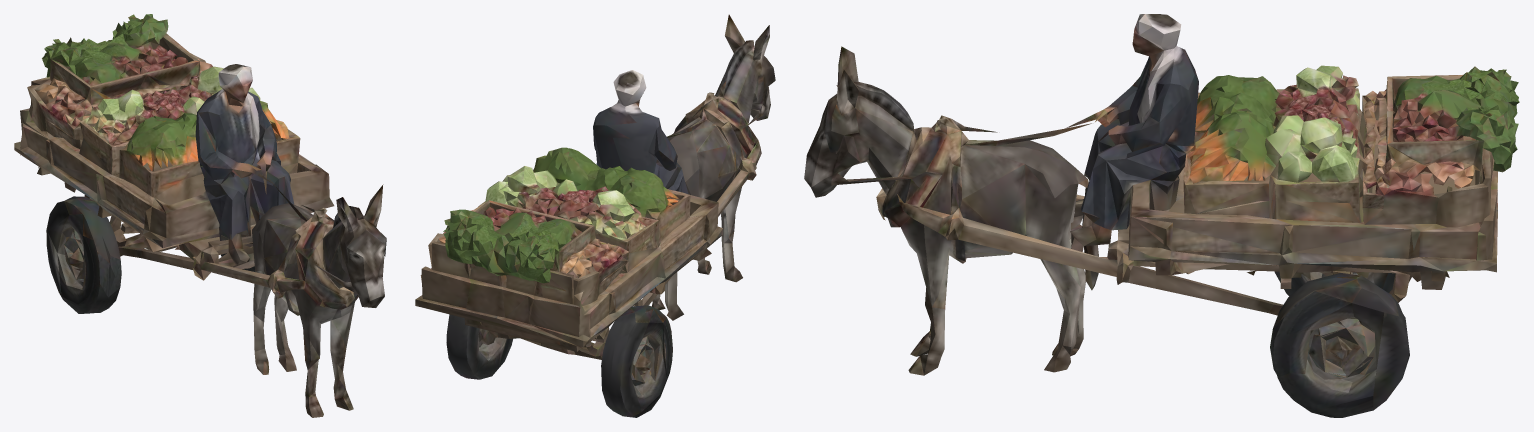
The model's file is karo.glb.
3 views of the same model, side by side, from view 1: azimuth 30°, elevation 25°; view 2: azimuth 150°, elevation 25°; view 3: azimuth 270°, elevation 25° (orthographic). The views are drawn at different scales.
Visible parts, largest first — view 1: output_unwrapped; view 2: output_unwrapped; view 3: output_unwrapped.
Boxes of the visible parts, bbox=[...] form: output_unwrapped: bbox=[14, 14, 386, 417]; output_unwrapped: bbox=[415, 14, 775, 417]; output_unwrapped: bbox=[804, 14, 1519, 417].
Size of the model in its own units: 0.7269 by 1.03 by 1.89.
Materials: 1 (1 with a texture image).
